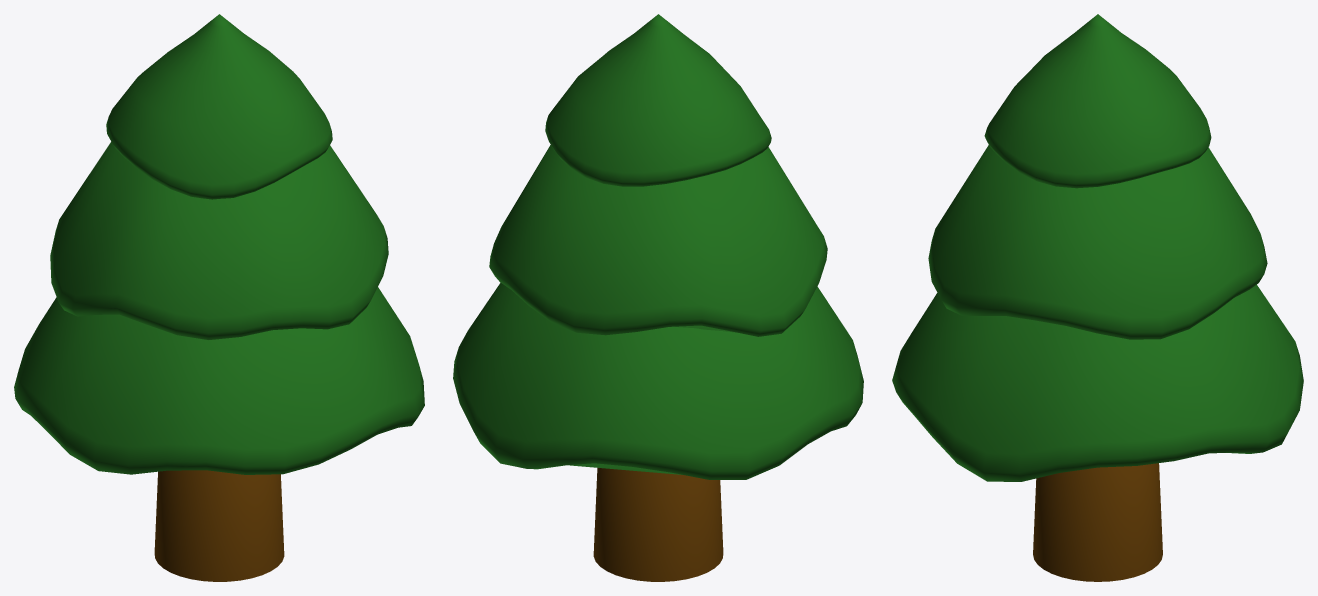
The model's file is Tree2.fbx.
3 renders of one model, left to right at view 1: azimuth 30°, elevation 25°; view 2: azimuth 150°, elevation 25°; view 3: azimuth 270°, elevation 25°, orthographic.
Parts seen in each view (by area): view 1: Cylinder.002, Cylinder.003, Cylinder.004, Tree2; view 2: Cylinder.002, Cylinder.003, Cylinder.004, Tree2; view 3: Cylinder.002, Cylinder.003, Cylinder.004, Tree2.
Boxes of the visible parts, x1,y1,x2,y2 form: Cylinder.002: [14, 287, 424, 474]; Cylinder.003: [50, 142, 388, 339]; Cylinder.004: [106, 14, 332, 199]; Tree2: [154, 470, 284, 581]; Cylinder.002: [453, 282, 863, 479]; Cylinder.003: [489, 145, 827, 336]; Cylinder.004: [545, 14, 771, 186]; Tree2: [593, 468, 723, 581]; Cylinder.002: [892, 284, 1303, 481]; Cylinder.003: [928, 145, 1267, 339]; Cylinder.004: [984, 14, 1211, 188]; Tree2: [1033, 463, 1162, 581].
Bounding box in the file's own units: 633 × 917 × 633.
